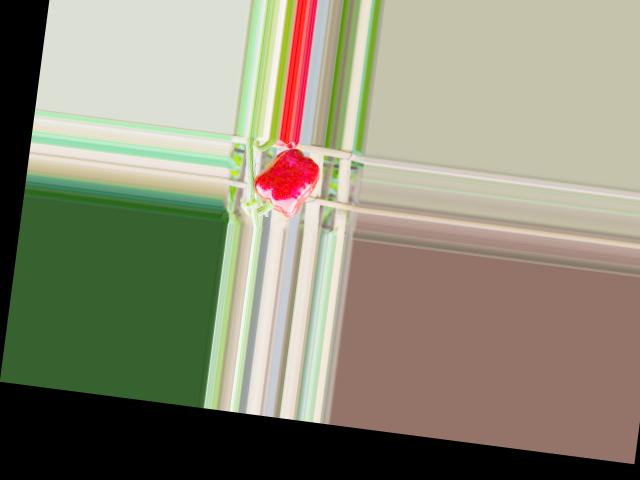bell_pepper: (245, 144, 327, 221)
